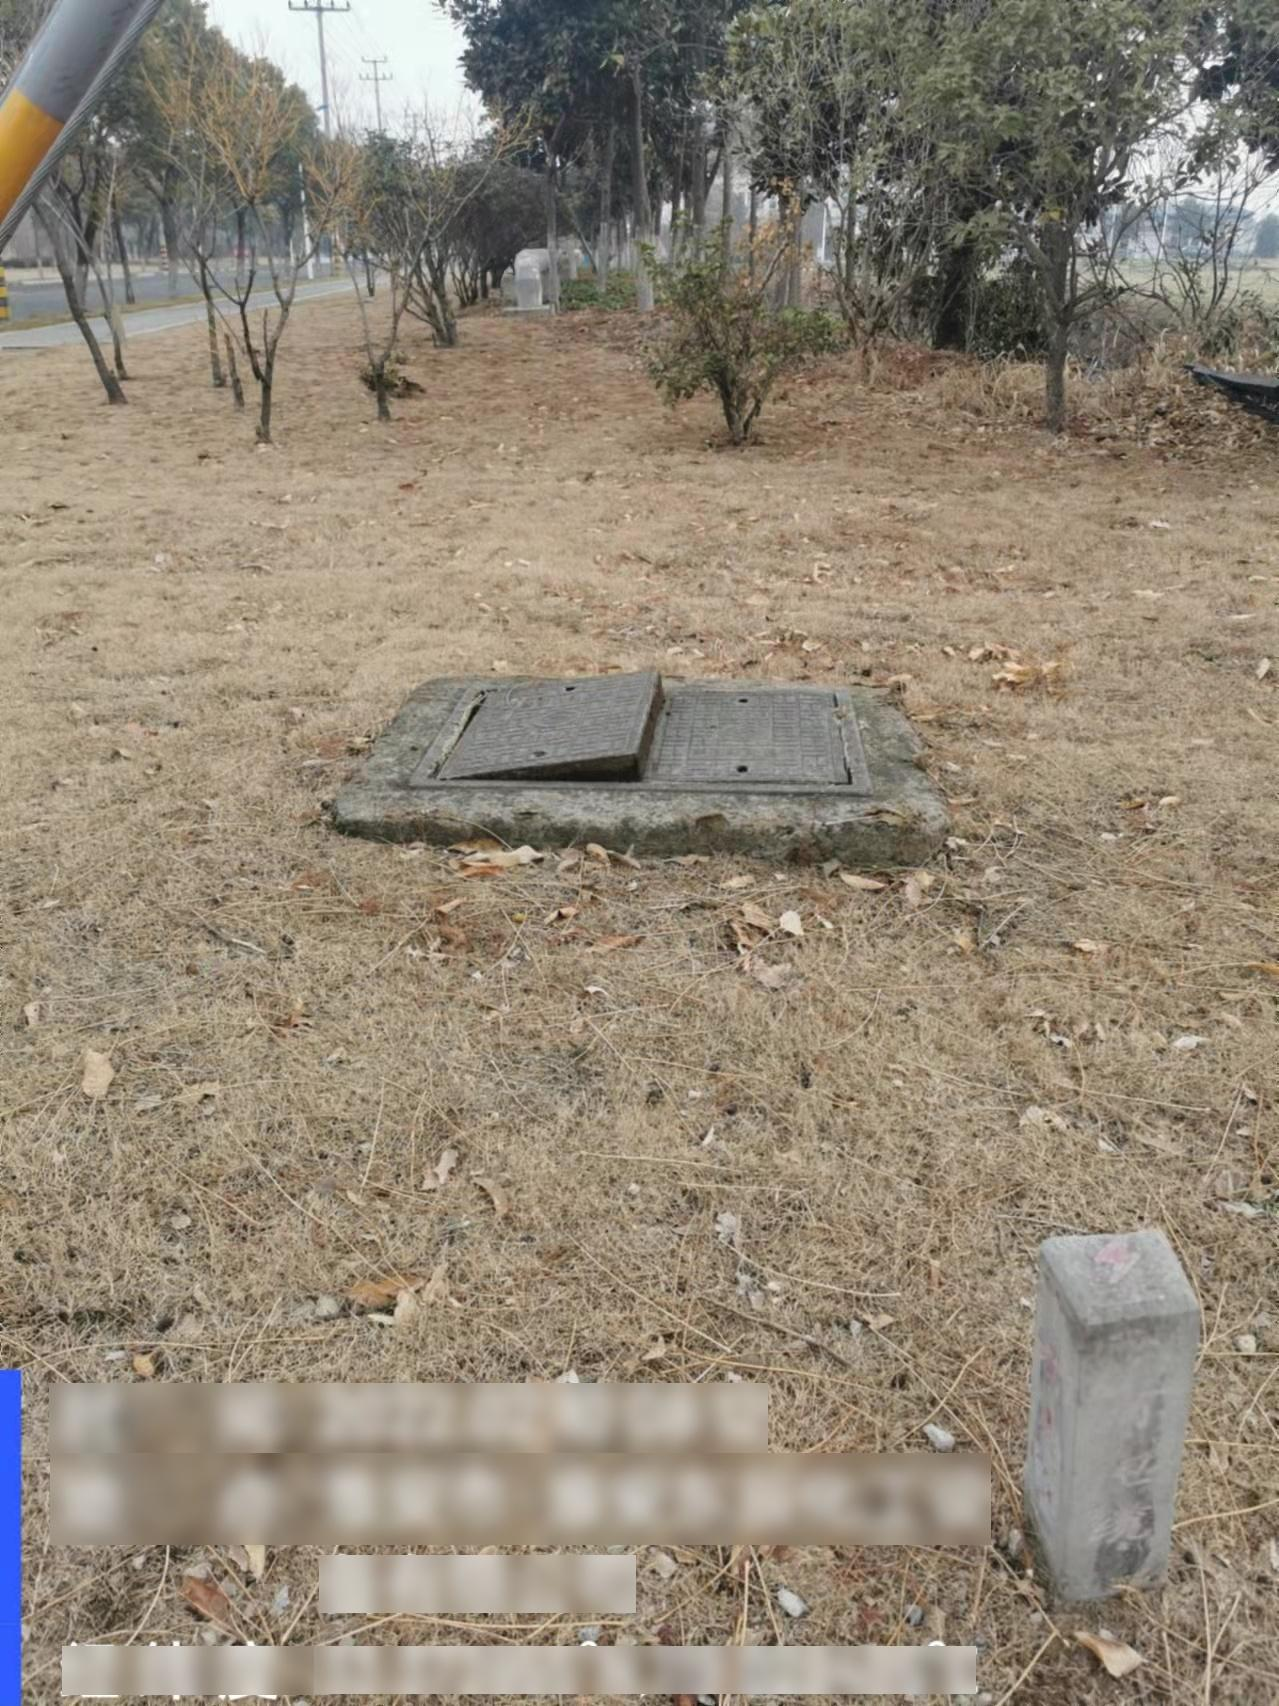wellcover: (351, 634, 977, 856)
